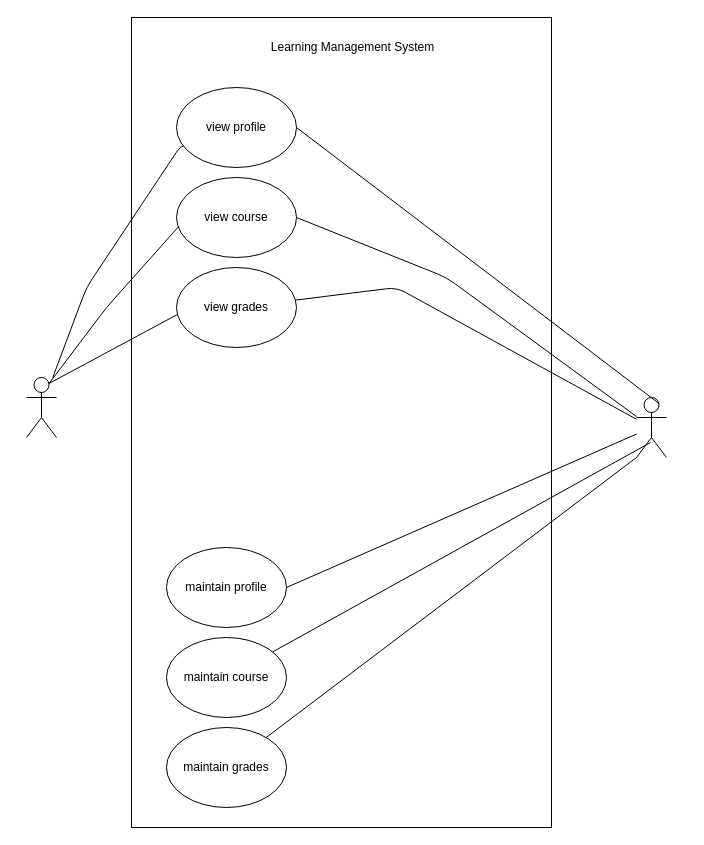
Some shapes in this 704 by 845 pixel diagram are drawn without their labels. Each missing label, with the centre of its shape:
"Administrator (Professor)" goes at point (651, 427).
"User (Student)" goes at point (41, 407).
